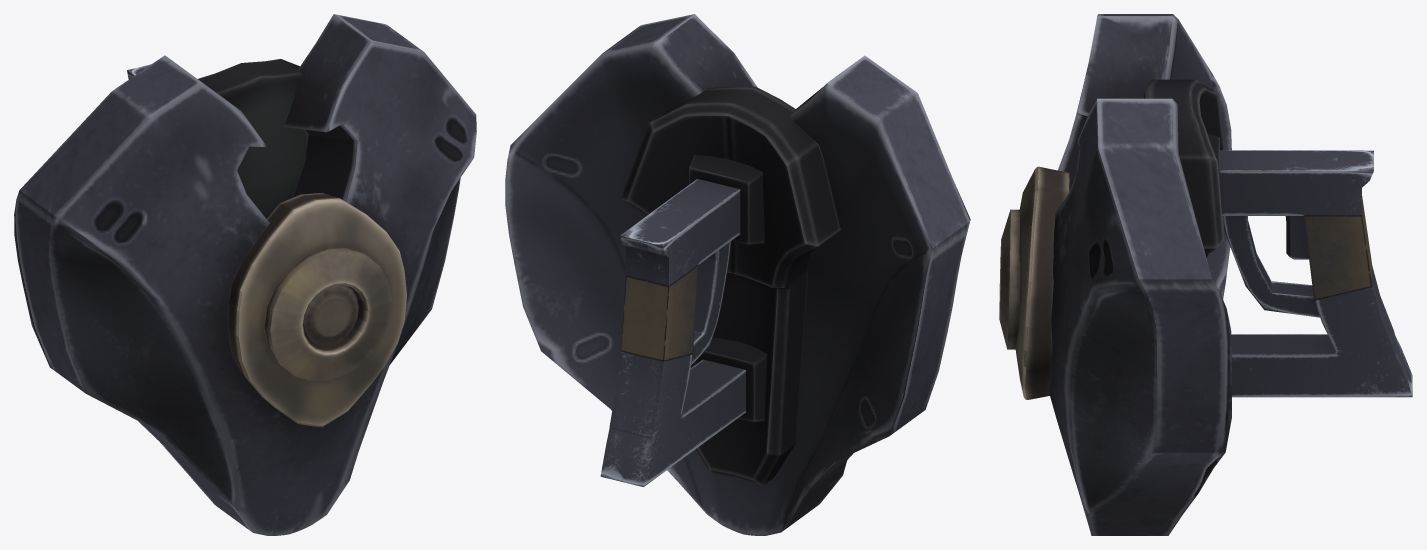
Rendered from Stylised_Tank_Handle_Model.fbx.
3 views of the same model, side by side, from view 1: azimuth 30°, elevation 25°; view 2: azimuth 150°, elevation 25°; view 3: azimuth 270°, elevation 25° (orthographic).
Visible parts, largest first — view 1: Stylised_Tank_Handle_Model; view 2: Stylised_Tank_Handle_Model; view 3: Stylised_Tank_Handle_Model.
Part boxes in pixels (x1,y1,x2,y2): Stylised_Tank_Handle_Model: [14, 14, 476, 535]; Stylised_Tank_Handle_Model: [505, 14, 970, 535]; Stylised_Tank_Handle_Model: [999, 14, 1412, 535].
Bounding box in the file's own units: 44.17 × 47.27 × 37.58.
